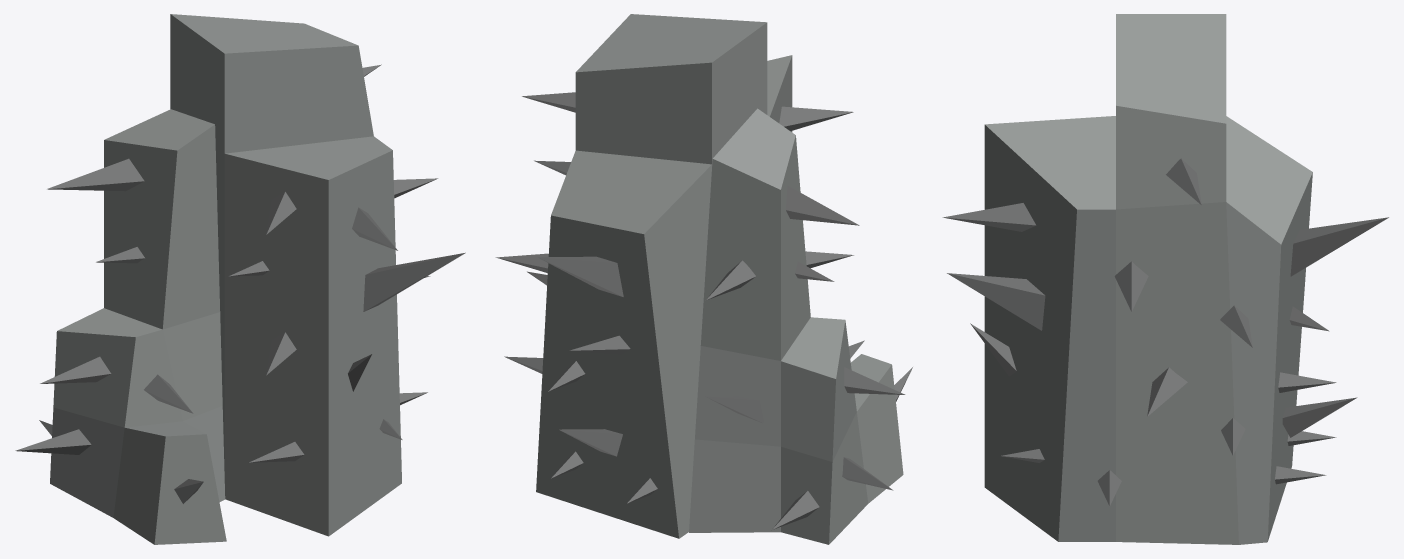
File: Iron1.fbx
3 renders of one model, left to right at view 1: azimuth 30°, elevation 25°; view 2: azimuth 150°, elevation 25°; view 3: azimuth 270°, elevation 25°, orthographic.
Visible parts, largest first — view 1: Iron1, Iron2; view 2: Iron1, Iron2; view 3: Iron1.
Part boxes in pixels (x1,y1,x2,y2): Iron1: (170, 14, 465, 536); Iron2: (15, 109, 226, 544); Iron1: (495, 14, 853, 538); Iron2: (689, 108, 912, 544); Iron1: (942, 14, 1388, 544).
Size of the model in its own units: 290 by 318 by 284.
